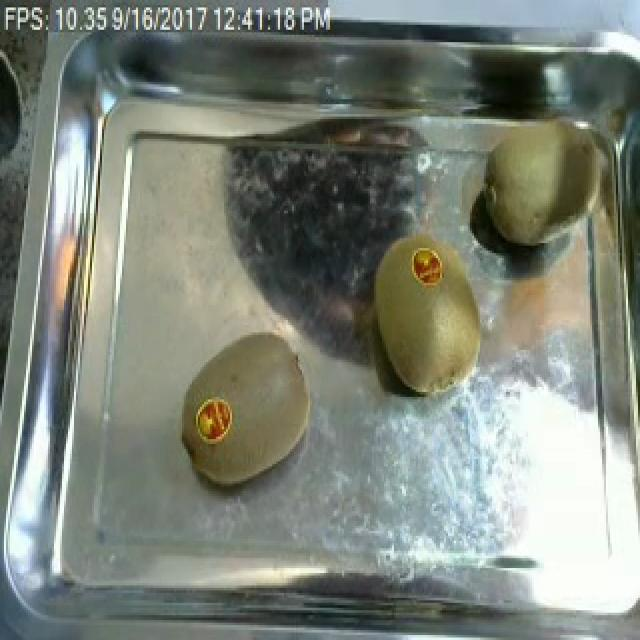Fruit: (470, 100, 628, 260), (176, 328, 322, 496), (362, 236, 490, 402)
